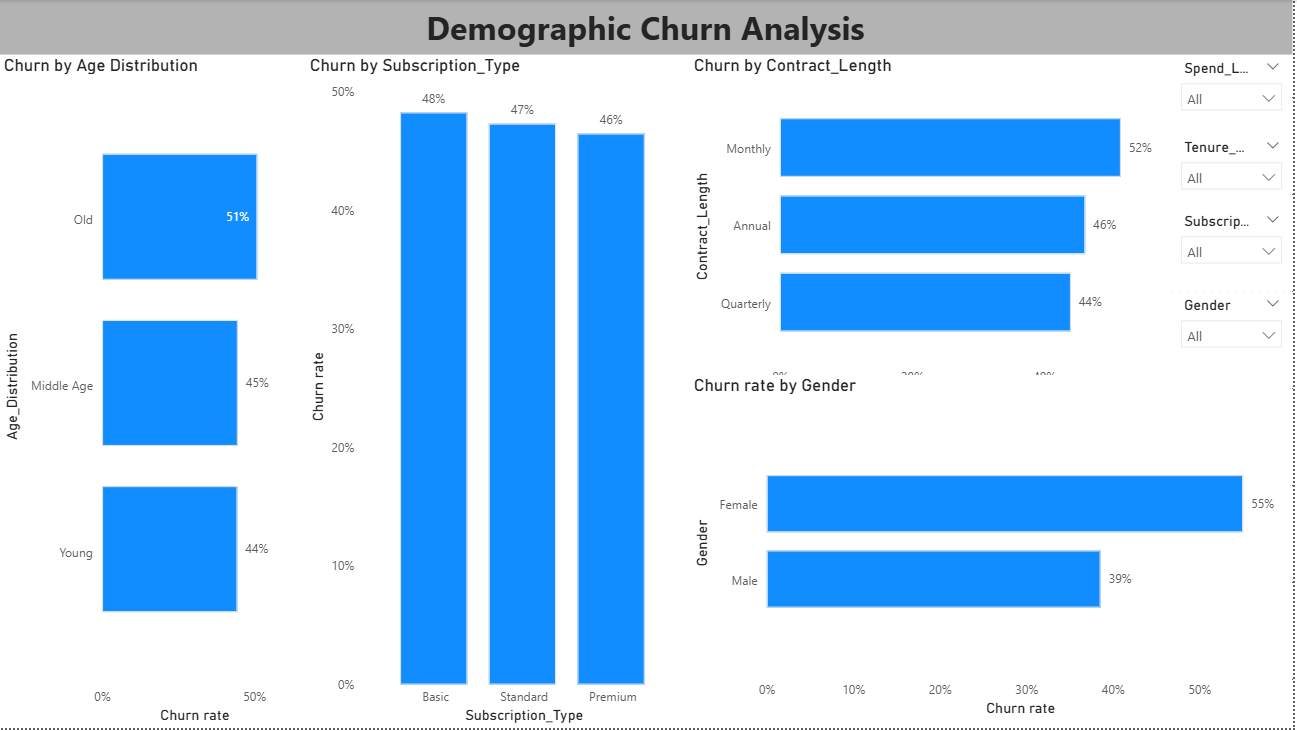

The page's visual inventory and layout, read from the dashboard file:
{"tool":"powerbi","page":{"name":"Page 2","canvas":[1280,720],"ordinal":1},"visuals":[{"type":"barChart","title":"Churn by Age Distribution","fields":{"Category":["custome churn.Age_Distribution"],"Y":["custome churn.Churn rate"]},"box":[0,54.4,302.8,666.1],"z":0},{"type":"columnChart","title":"Churn by Subscription_Type","fields":{"Category":["custome churn.Subscription_Type"],"Y":["custome churn.Churn rate"]},"box":[302.8,54.4,380,666.1],"z":1000},{"type":"clusteredBarChart","title":"Churn by Contract_Length","fields":{"Category":["custome churn.Contract_Length"],"Y":["custome churn.Churn rate"]},"box":[682.9,54.4,477,349.4],"z":2000},{"type":"barChart","fields":{"Category":["custome churn.Gender"],"Y":["custome churn.Churn rate"]},"box":[682.9,371.1,596.8,342.4],"z":3000},{"type":"slicer","fields":{"Values":["custome churn.Spend_Level"]},"box":[1159.9,54.4,119.8,85.1],"z":4000},{"type":"slicer","fields":{"Values":["custome churn.Tenure_Distribution"]},"box":[1159.9,132.6,119.8,75.2],"z":5000},{"type":"slicer","fields":{"Values":["custome churn.Subscription_Type"]},"box":[1159.9,205.9,119.8,83.1],"z":6000},{"type":"slicer","fields":{"Values":["custome churn.Gender"]},"box":[1159.9,289,119.8,82.1],"z":7000},{"type":"textbox","box":[0,0,1279.7,54.4],"z":8000}]}

Visuals, with their boxes in screenshot pixels (x1, y1, x2, y2), scaled from the page's 1280x720 canvas onto the 1297x731 screenshot:
"Churn by Age Distribution" barChart: (left=0, top=55, right=307, bottom=730)
"Churn by Subscription_Type" columnChart: (left=307, top=55, right=692, bottom=730)
"Churn by Contract_Length" clusteredBarChart: (left=692, top=55, right=1175, bottom=410)
barChart - custome churn.Gender x custome churn.Churn rate: (left=692, top=377, right=1296, bottom=724)
slicer - custome churn.Spend_Level: (left=1175, top=55, right=1296, bottom=142)
slicer - custome churn.Tenure_Distribution: (left=1175, top=135, right=1296, bottom=211)
slicer - custome churn.Subscription_Type: (left=1175, top=209, right=1296, bottom=293)
slicer - custome churn.Gender: (left=1175, top=293, right=1296, bottom=377)
textbox: (left=0, top=0, right=1296, bottom=55)
